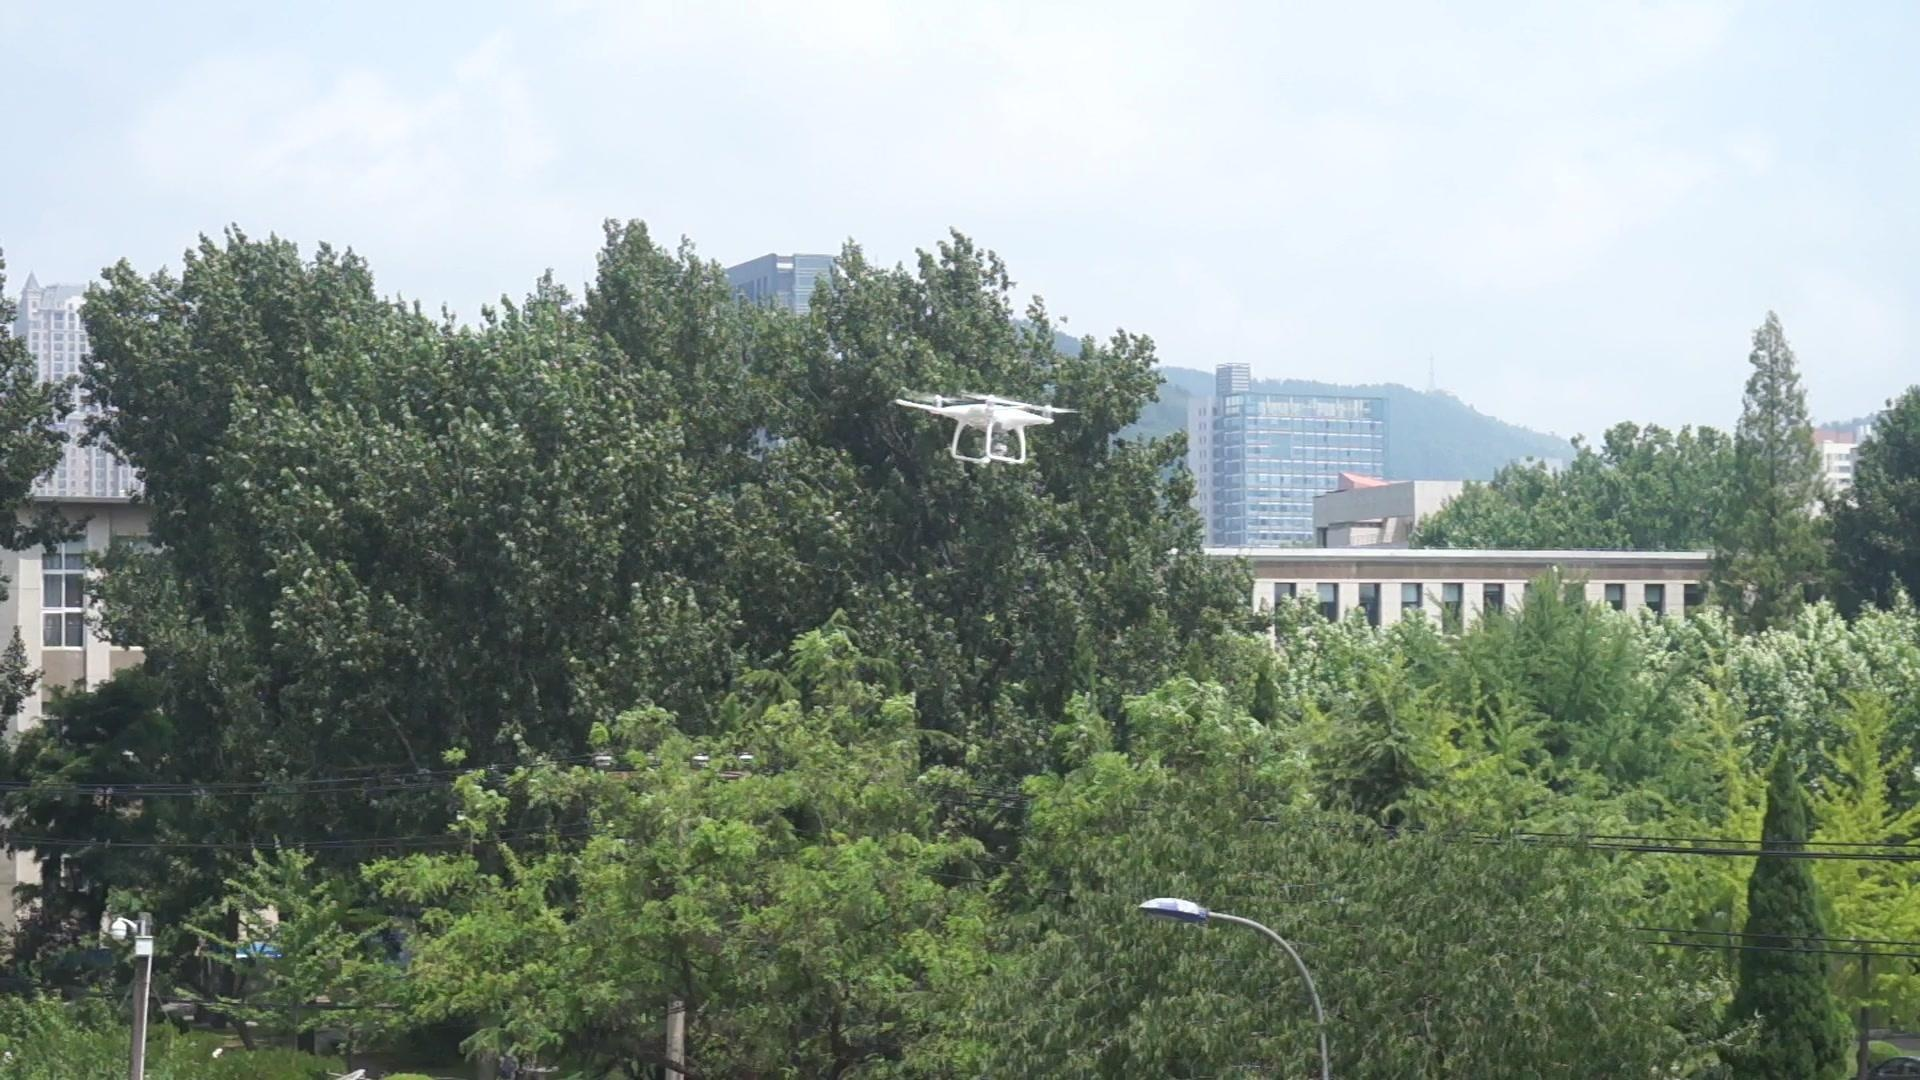UAV: (895, 392, 1084, 465)
